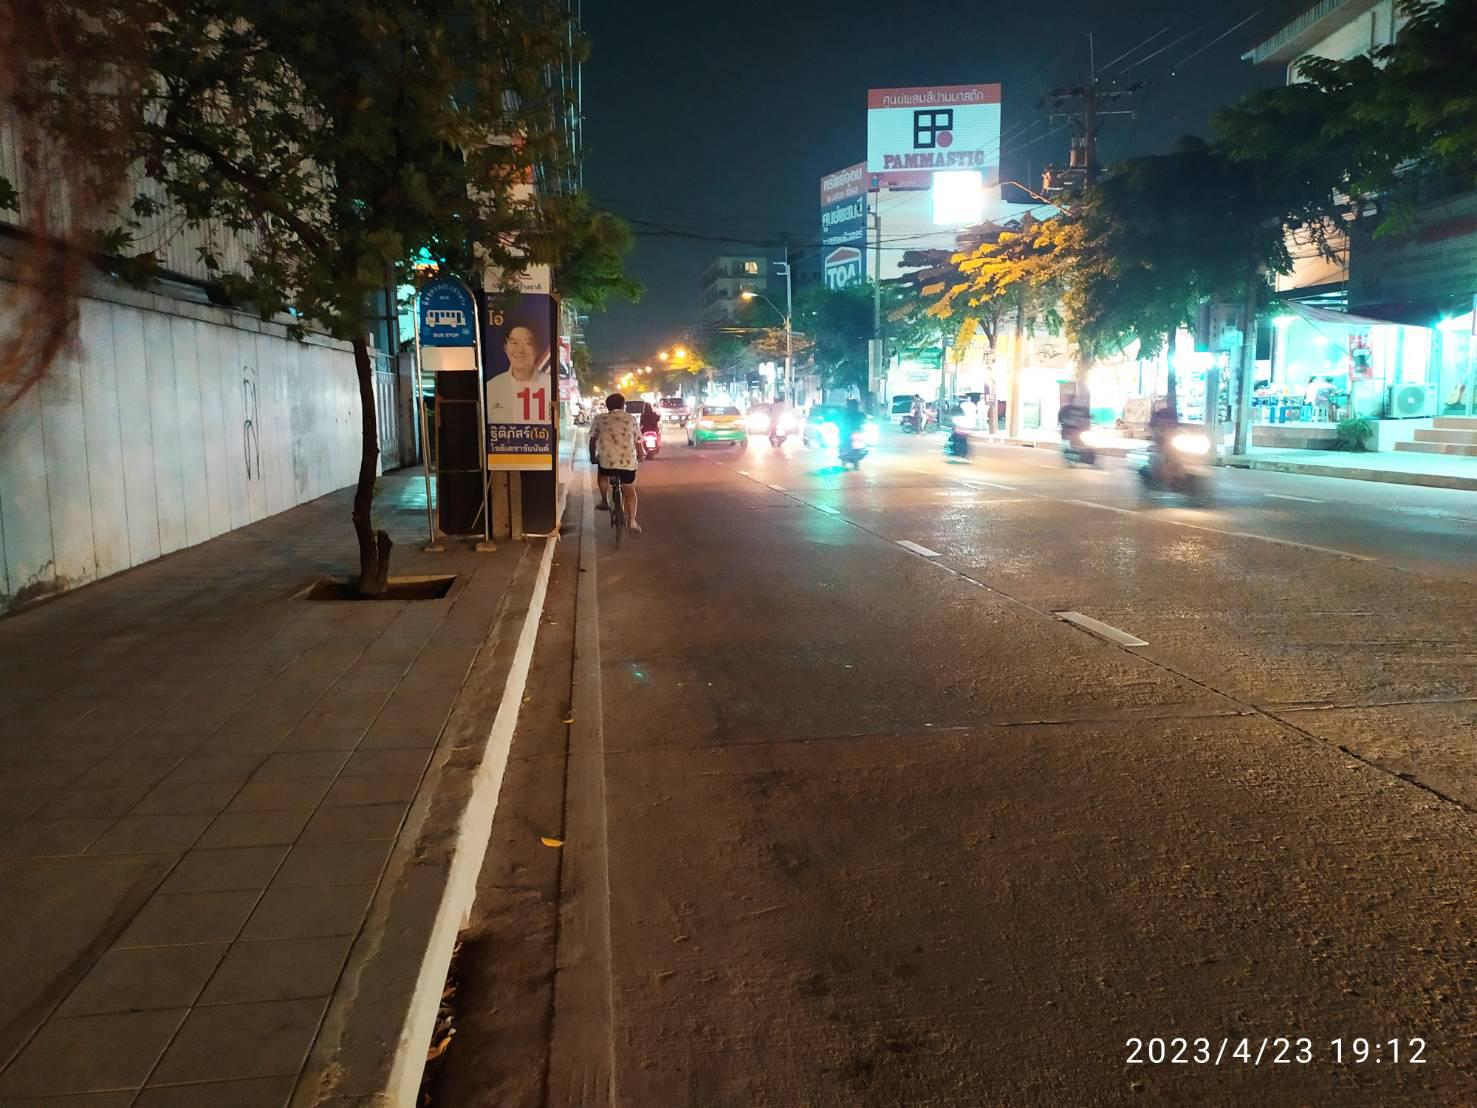Banner: (474, 258, 562, 481)
